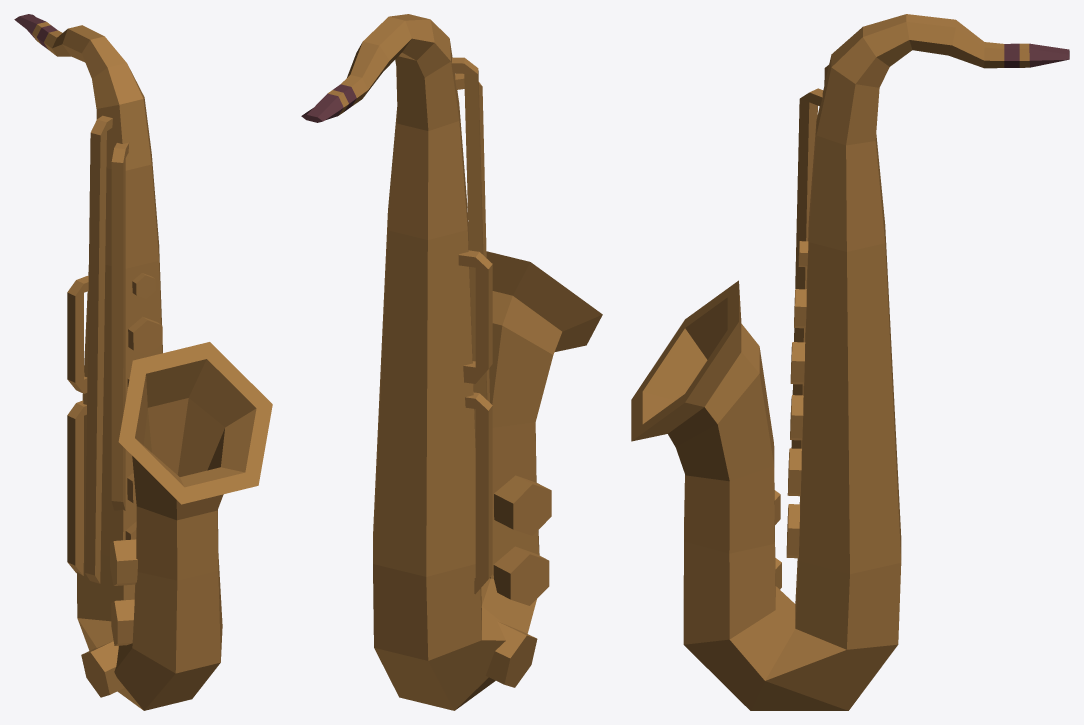
The model's file is music-saxophone-tenor.glb.
The picture shows the model from 3 angles, left to right: view 1: azimuth 30°, elevation 25°; view 2: azimuth 150°, elevation 25°; view 3: azimuth 270°, elevation 25°; orthographic projection. The views are drawn at different scales.
Visible parts, largest first — view 1: saxophone-tenor; view 2: saxophone-tenor; view 3: saxophone-tenor.
Boxes of the visible parts, bbox=[...] form: saxophone-tenor: bbox=[14, 14, 272, 710]; saxophone-tenor: bbox=[301, 14, 602, 710]; saxophone-tenor: bbox=[631, 14, 1069, 710].
Bounding box in the file's own units: 0.2136 × 0.8146 × 0.476.
